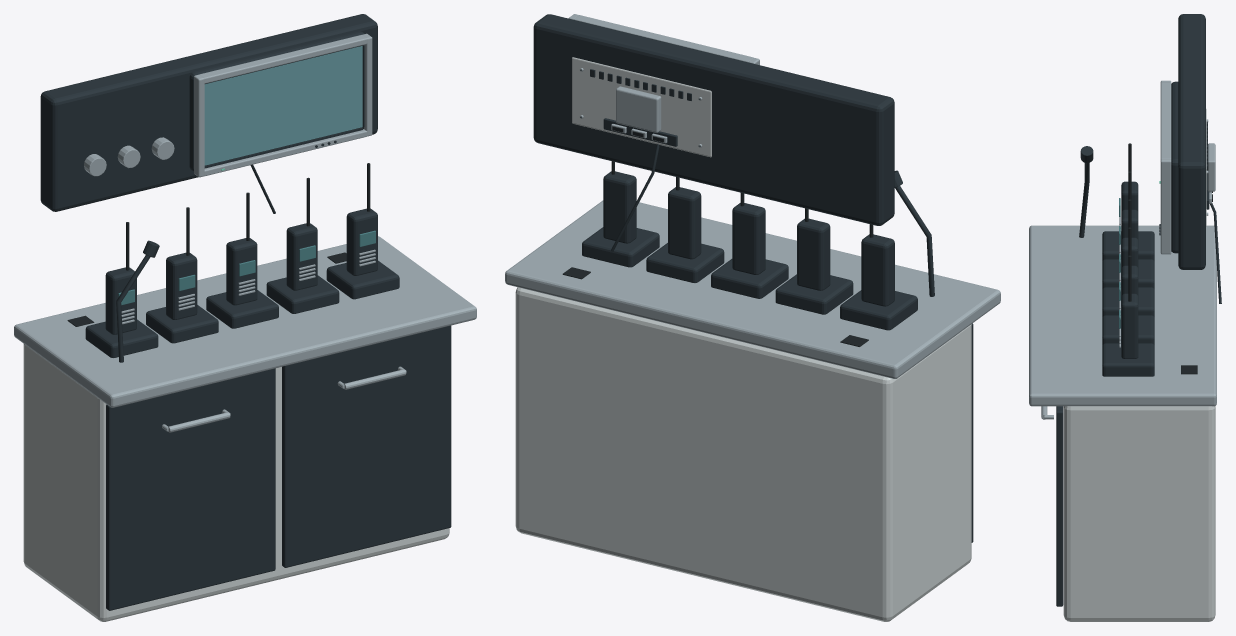
The model's file is SF_SC_RadioDutyStation.fbx.
The picture shows the model from 3 angles, left to right: view 1: azimuth 30°, elevation 25°; view 2: azimuth 150°, elevation 25°; view 3: azimuth 270°, elevation 25°; orthographic projection. The views are drawn at different scales.
Visible parts, largest first — view 1: SF_SC_RadioDutyStation; view 2: SF_SC_RadioDutyStation; view 3: SF_SC_RadioDutyStation.
Boxes of the visible parts, <box> form: SF_SC_RadioDutyStation: <box>14,14,476,621</box>; SF_SC_RadioDutyStation: <box>505,14,1000,621</box>; SF_SC_RadioDutyStation: <box>1029,14,1221,621</box>.
Size of the model in its own units: 146 by 182 by 69.8.
